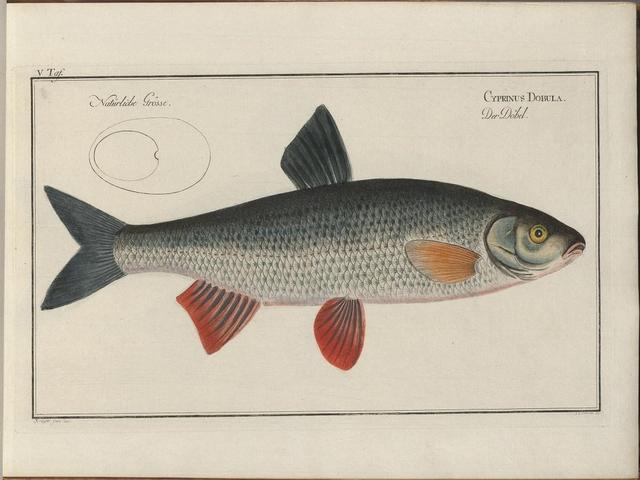fish: (23, 126, 594, 345)
